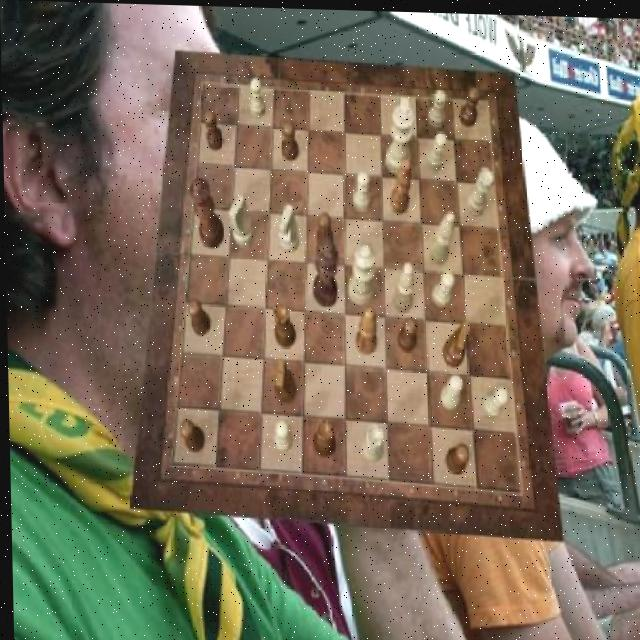bishop: (387, 157, 411, 213), (353, 305, 377, 353)
black-bishop: (310, 235, 337, 306)
black-king: (439, 319, 469, 368), (271, 357, 295, 403)
black-knight: (185, 296, 209, 334), (176, 418, 202, 453), (202, 108, 223, 150), (459, 85, 480, 125), (443, 441, 468, 474), (279, 120, 297, 161), (394, 314, 415, 349), (314, 210, 332, 248)
black-pawn: (188, 176, 223, 248)
black-queen: (270, 302, 294, 346), (310, 418, 334, 456)
black-rook: (427, 208, 455, 263), (390, 259, 413, 311)
white-bishop: (384, 95, 415, 174)
white-king: (227, 193, 252, 244), (275, 202, 297, 251)
white-knight: (479, 383, 507, 416), (429, 268, 453, 305), (426, 130, 447, 170), (439, 372, 462, 408), (426, 87, 447, 126), (352, 170, 370, 210), (249, 77, 265, 118), (272, 418, 291, 451)
white-pawn: (344, 242, 374, 305)
white-queen: (464, 165, 493, 214), (358, 422, 382, 460)
